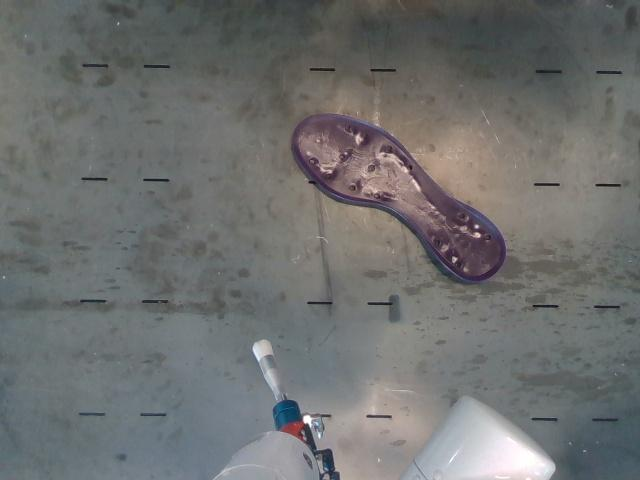shoes: (292, 114, 506, 281)
